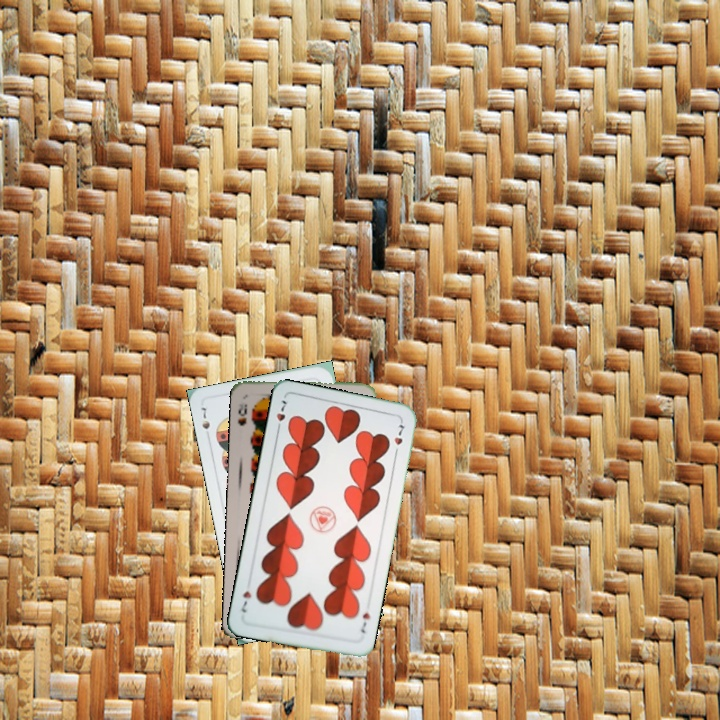H7: (272, 396, 289, 435), (356, 609, 372, 636)
S7: (198, 403, 213, 442)
S8: (233, 400, 249, 428)
